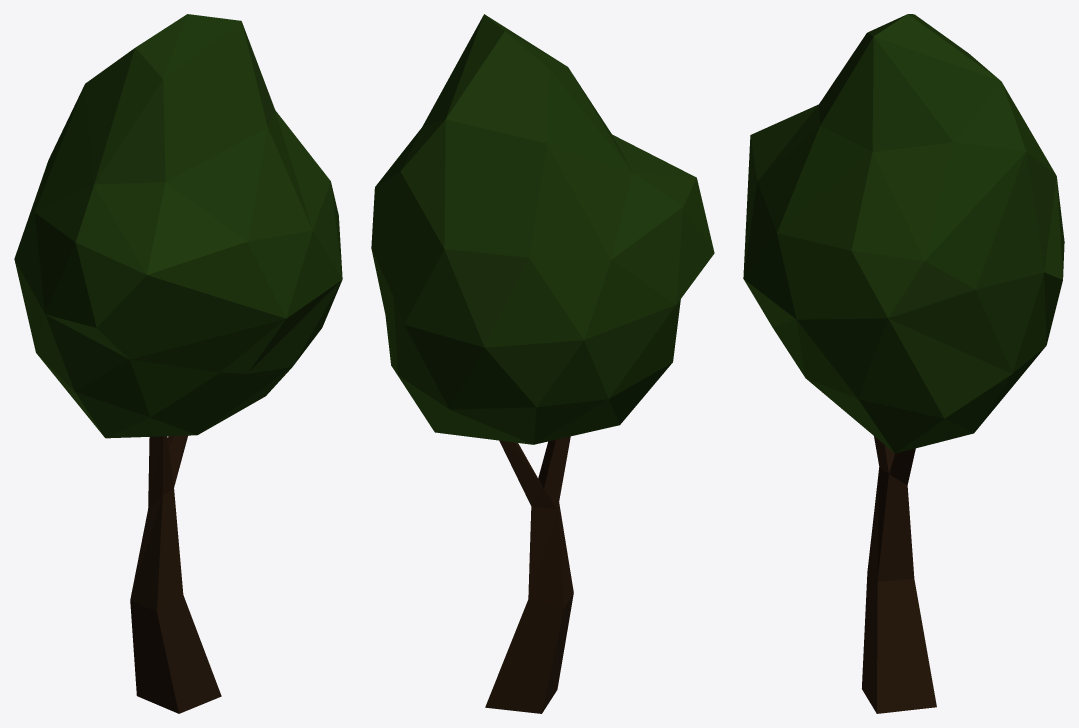
Rendered from ball_tree2.obj.
3 views of the same model, side by side, from view 1: azimuth 30°, elevation 25°; view 2: azimuth 150°, elevation 25°; view 3: azimuth 270°, elevation 25° (orthographic). The views are drawn at different scales.
Visible parts, largest first — view 1: Tree1_4_Cube.021; view 2: Tree1_4_Cube.021; view 3: Tree1_4_Cube.021.
Part boxes in pixels (left/top/right/bottom): Tree1_4_Cube.021: left=14, top=14, right=342, bottom=713; Tree1_4_Cube.021: left=371, top=14, right=714, bottom=713; Tree1_4_Cube.021: left=743, top=14, right=1064, bottom=713.
Size of the model in its own units: 2.74 by 5.89 by 2.49.
